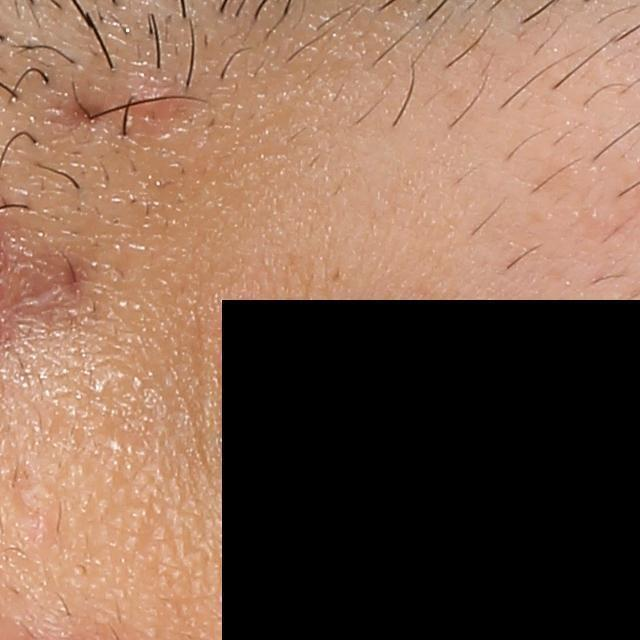papule: (117, 75, 183, 122)
